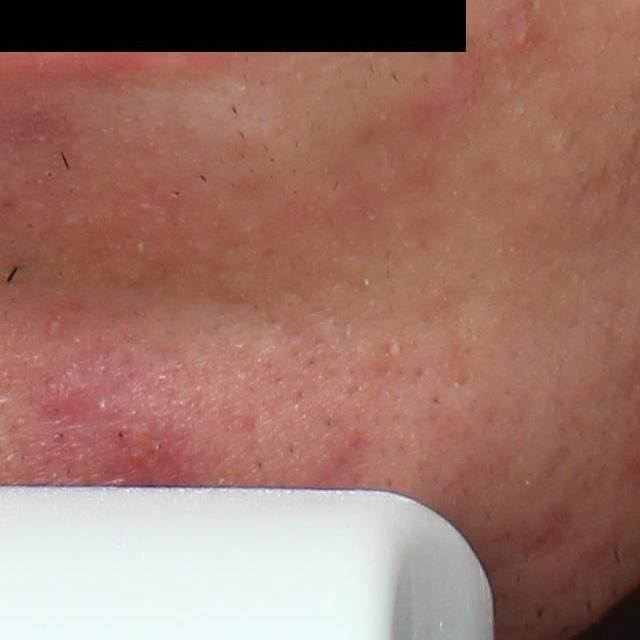comedo: (172, 358, 185, 370)
papule: (41, 372, 103, 415), (512, 4, 540, 48)
